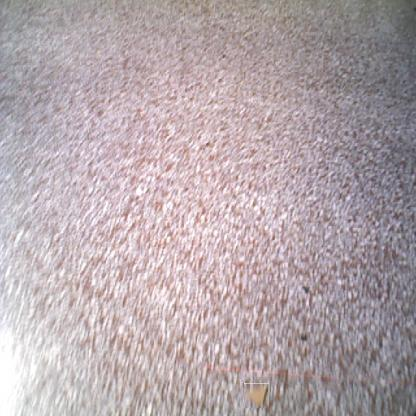dirty: (243, 383, 269, 408)
